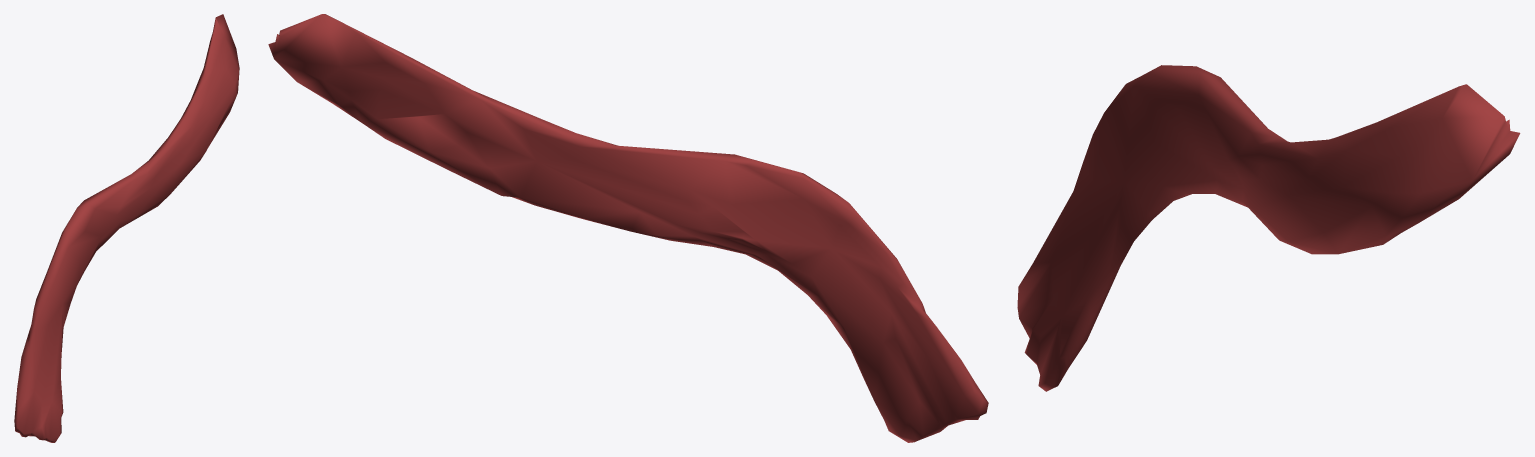
Rendered from zygomaticus-minor-muscle-l.glb.
The picture shows the model from 3 angles, left to right: view 1: azimuth 30°, elevation 25°; view 2: azimuth 150°, elevation 25°; view 3: azimuth 270°, elevation 25°; orthographic projection. The views are drawn at different scales.
Parts seen in each view (by area): view 1: Zygomaticus minor muscle.l; view 2: Zygomaticus minor muscle.l; view 3: Zygomaticus minor muscle.l.
Boxes of the visible parts, x1=… form: Zygomaticus minor muscle.l: x1=14, y1=14, x2=239, y2=442; Zygomaticus minor muscle.l: x1=268, y1=14, x2=988, y2=442; Zygomaticus minor muscle.l: x1=1017, y1=65, x2=1520, y2=391.
Size of the model in its own units: 0.0376 by 0.0306 by 0.0246.
